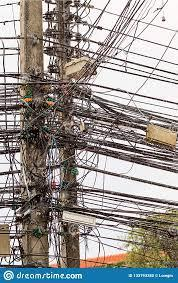wires-only: (0, 74, 178, 242)
